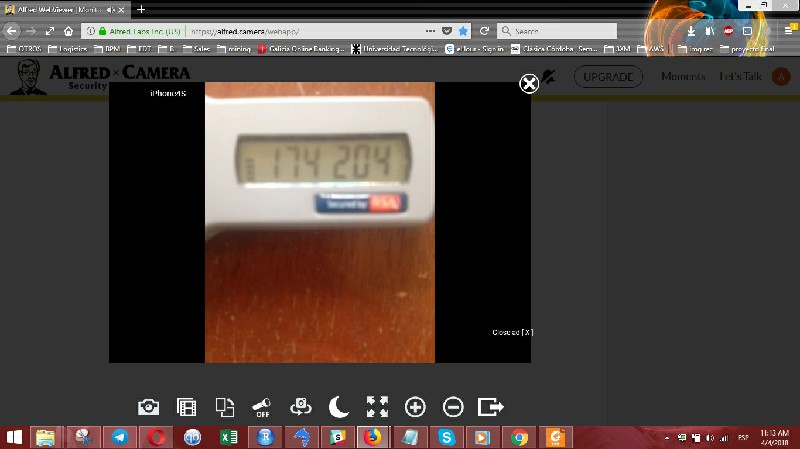display: (242, 141, 406, 182)
